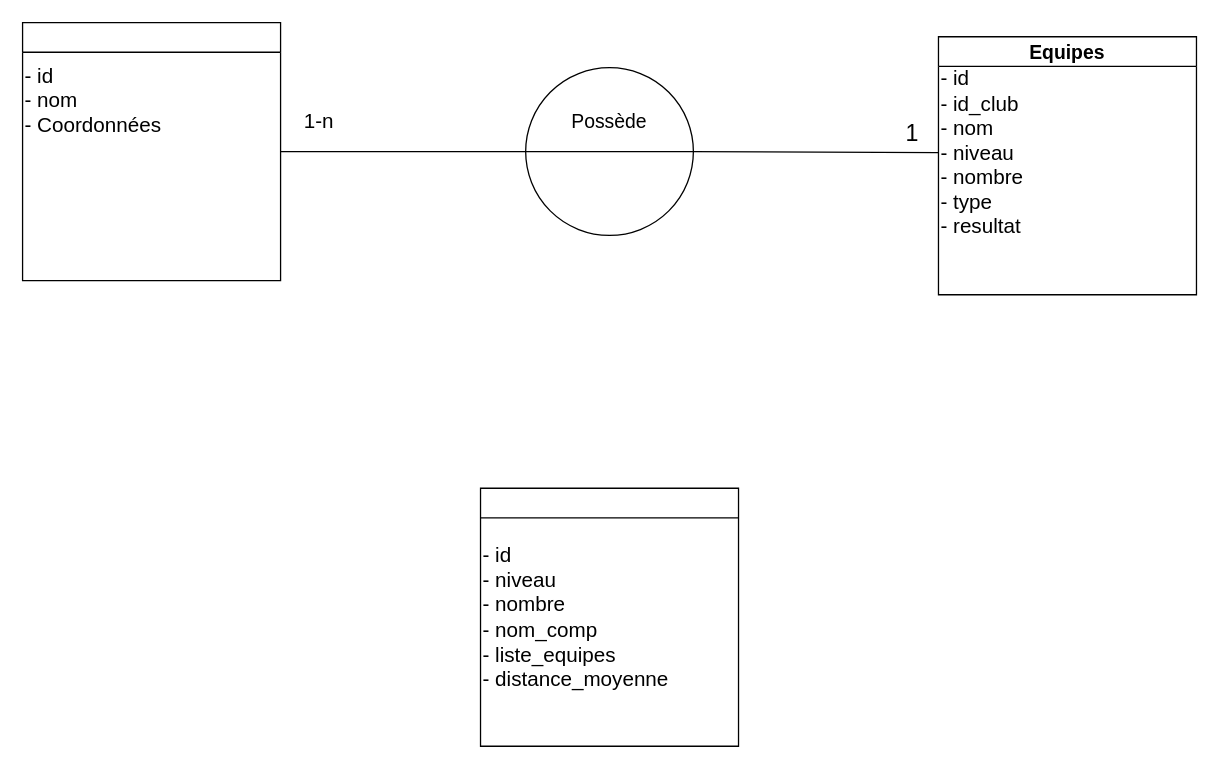
Some shapes in this 1219 by 769 pixel diagram are drawn without their labels. Here are the shapes that lost their labels. From the top down, the box of each, then its label:
(21, 21, 281, 281): Clubs
(479, 487, 739, 746): Poules
